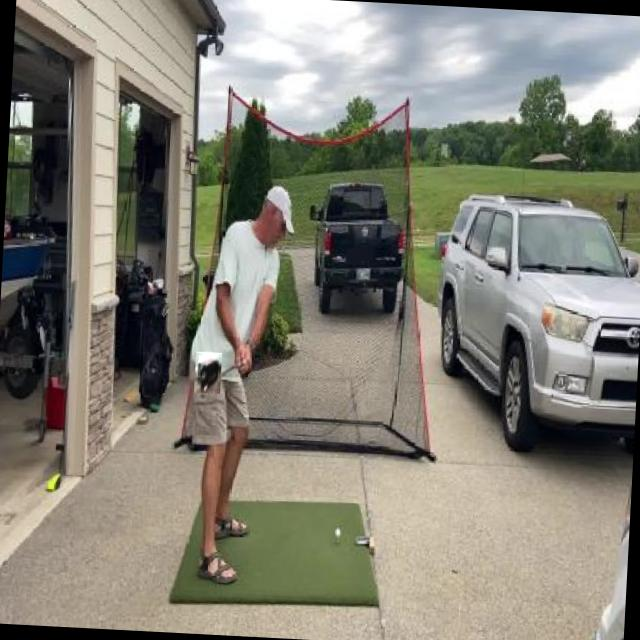club head: (195, 352, 222, 394)
